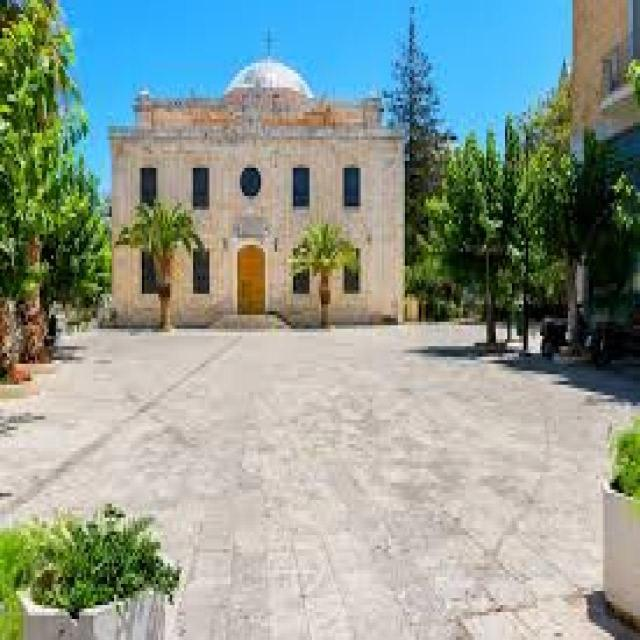Agios Titos: (105, 50, 409, 328)
